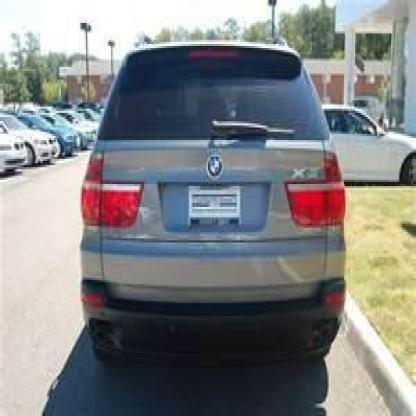Vehicle: (57, 9, 381, 402)
